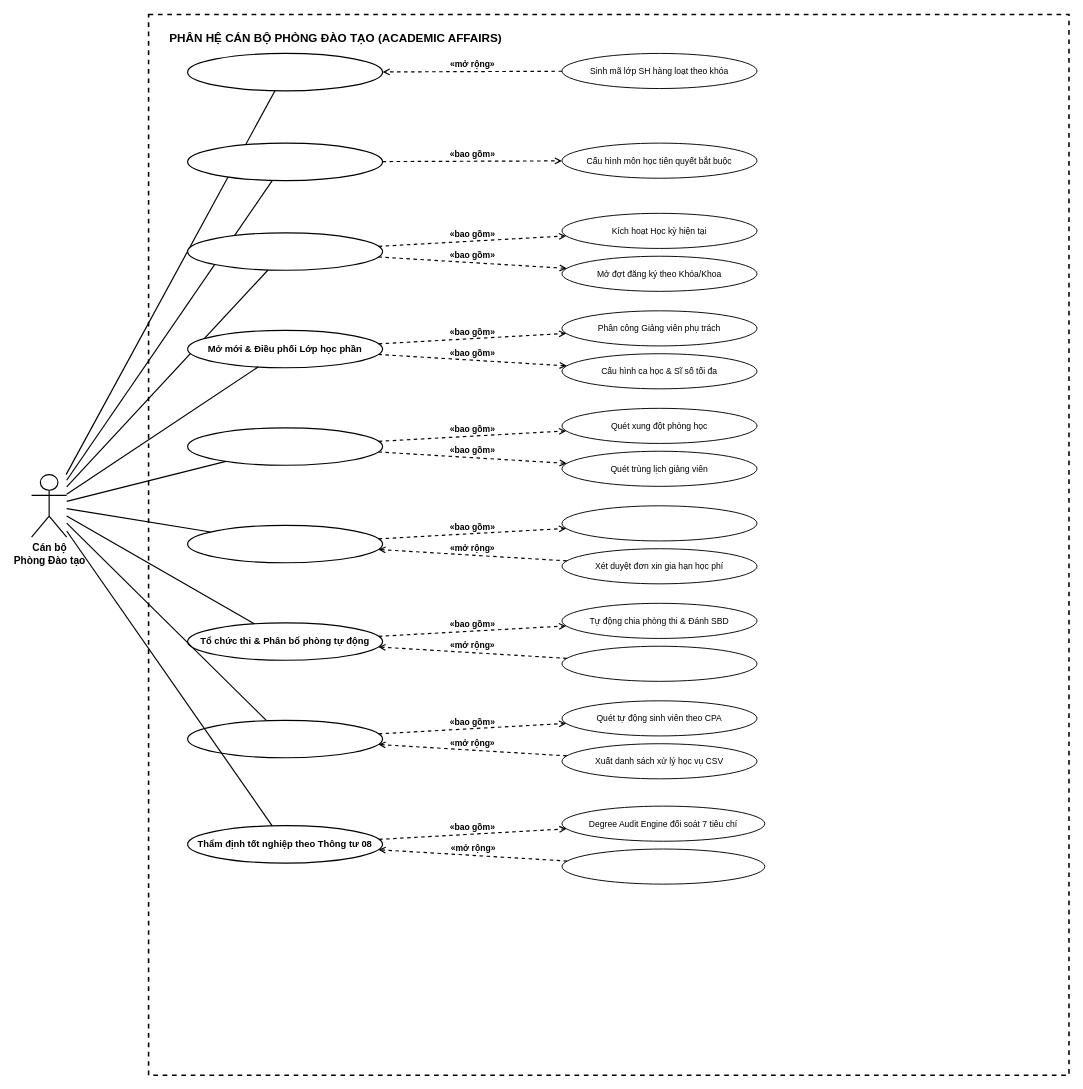
This 1083x1089 diagram has some shape labels left out. Each missing label, with the box of its shape:
Cấu hình Học kỳ & Đợt ĐKHP (Waves): (187, 232, 383, 271)
Import bảng điểm rọc phách từ Excel: (561, 645, 757, 681)
Quản lý & Thu học phí sinh viên: (187, 524, 383, 563)
Quản lý Cơ cấu Khoa & Lớp sinh hoạt: (187, 52, 383, 91)
Quản lý Cảnh báo học vụ 3 mức độ: (187, 719, 383, 758)
Quản lý Môn học & Môn tiên quyết: (187, 142, 383, 181)
Thu tiền mặt tại quầy & Xuất biên lai: (561, 505, 757, 541)
Xuất Quyết định tốt nghiệp & Sổ cấp bằng: (561, 848, 765, 884)
Xếp Thời khóa biểu & Chống xung đột: (187, 427, 383, 466)
